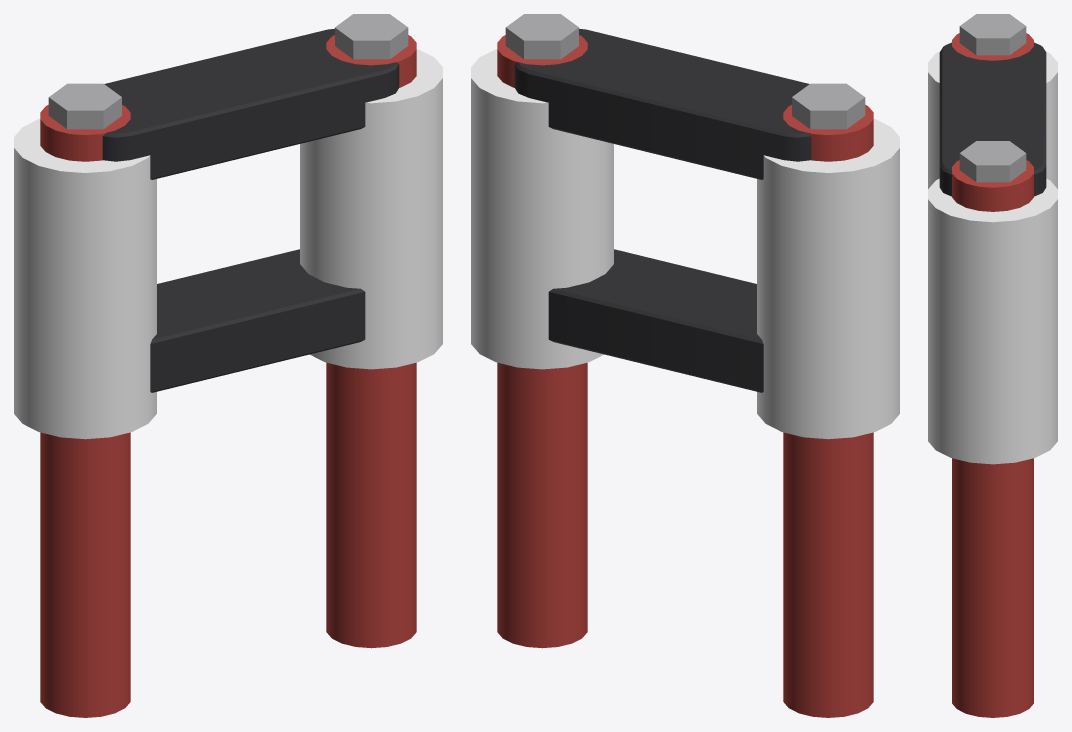
File: cruiser_wide_glide_upper.glb
3 views of the same model, side by side, from view 1: azimuth 30°, elevation 25°; view 2: azimuth 150°, elevation 25°; view 3: azimuth 270°, elevation 25° (orthographic). The views are drawn at different scales.
Visible parts, largest first — view 1: lod0; view 2: lod0; view 3: lod0.
Boxes of the visible parts, box(x1,y1,x2,y2) form: lod0: box(14, 14, 442, 717); lod0: box(471, 14, 899, 717); lod0: box(928, 14, 1057, 717).
Size of what is drawn, in the model's own units: 0.3238 by 0.452 by 0.0973.
